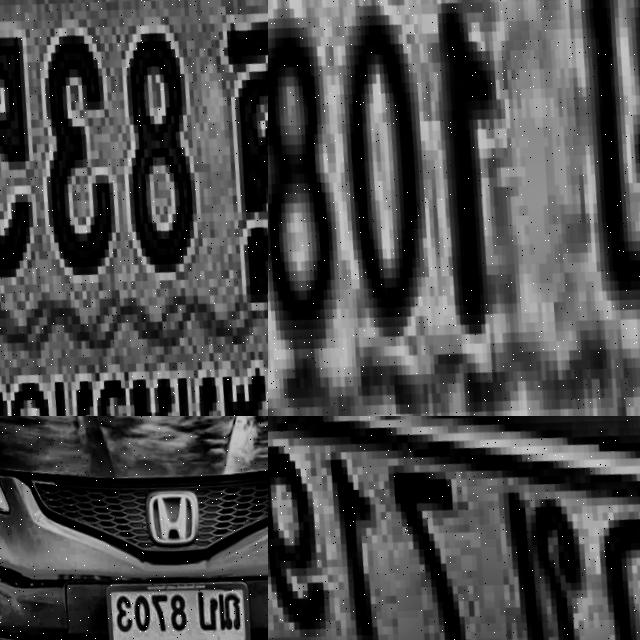license-plate: (268, 0, 640, 416), (0, 0, 268, 416), (268, 416, 640, 640), (104, 562, 261, 640)
